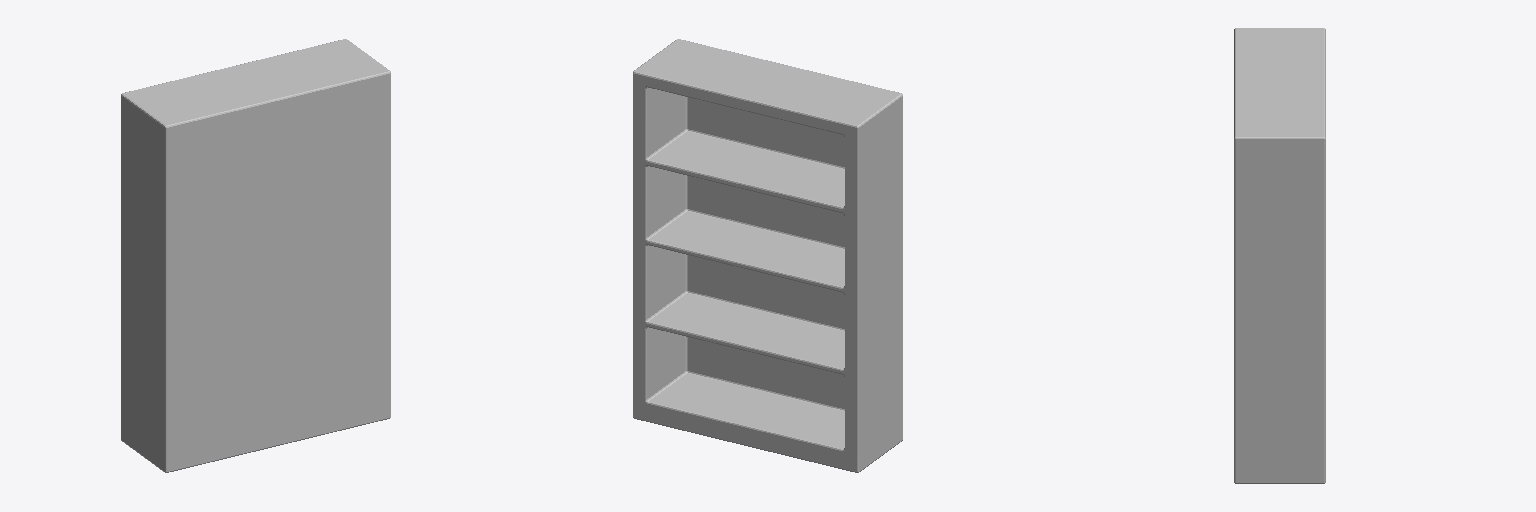
File: rak buku.obj
3 renders of one model, left to right at view 1: azimuth 30°, elevation 25°; view 2: azimuth 150°, elevation 25°; view 3: azimuth 270°, elevation 25°, orthographic.
Parts seen in each view (by area): view 1: pCube2 Rak_buku_1; view 2: pCube2 Rak_buku_1; view 3: pCube2 Rak_buku_1.
Boxes of the visible parts, x1=… form: pCube2 Rak_buku_1: x1=121, y1=39, x2=390, y2=472; pCube2 Rak_buku_1: x1=633, y1=39, x2=902, y2=472; pCube2 Rak_buku_1: x1=1234, y1=28, x2=1325, y2=483.
Size of the model in its own units: 3.13 by 4.58 by 1.09.